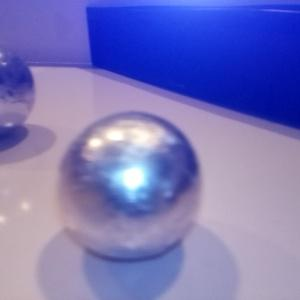alive_ball: (56, 110, 203, 261), (1, 45, 35, 139)
